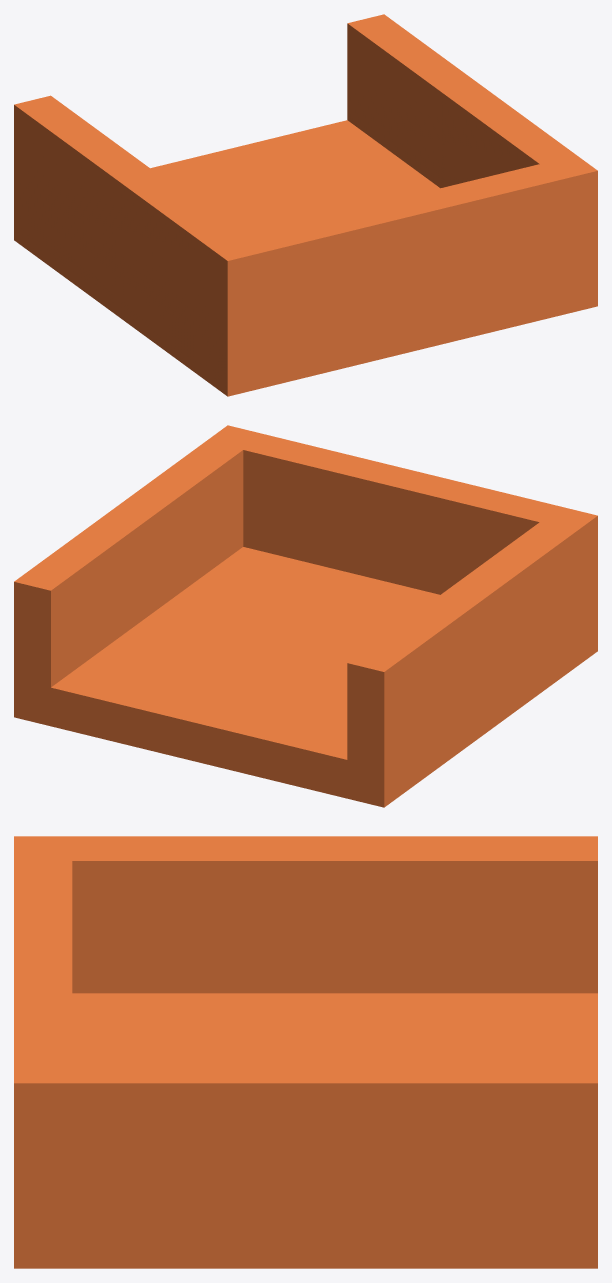
File: OrangeRoof_3Edges_Small.glb
3 views of the same model, one above another, from view 1: azimuth 30°, elevation 25°; view 2: azimuth 150°, elevation 25°; view 3: azimuth 270°, elevation 25° (orthographic). The views are drawn at different scales.
Visible parts, largest first — view 1: roof_flat_3Edges_small_orange; view 2: roof_flat_3Edges_small_orange; view 3: roof_flat_3Edges_small_orange.
Boxes of the visible parts, x1,y1,x2,y2 form: roof_flat_3Edges_small_orange: (14, 14, 597, 396); roof_flat_3Edges_small_orange: (14, 425, 597, 807); roof_flat_3Edges_small_orange: (14, 836, 597, 1268).
Size of what is drawn, in the model's own units: 2 by 0.7 by 2.
1 material, 1 textured.
